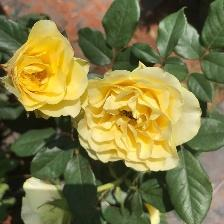rose: (73, 62, 205, 174), (6, 21, 91, 120)
